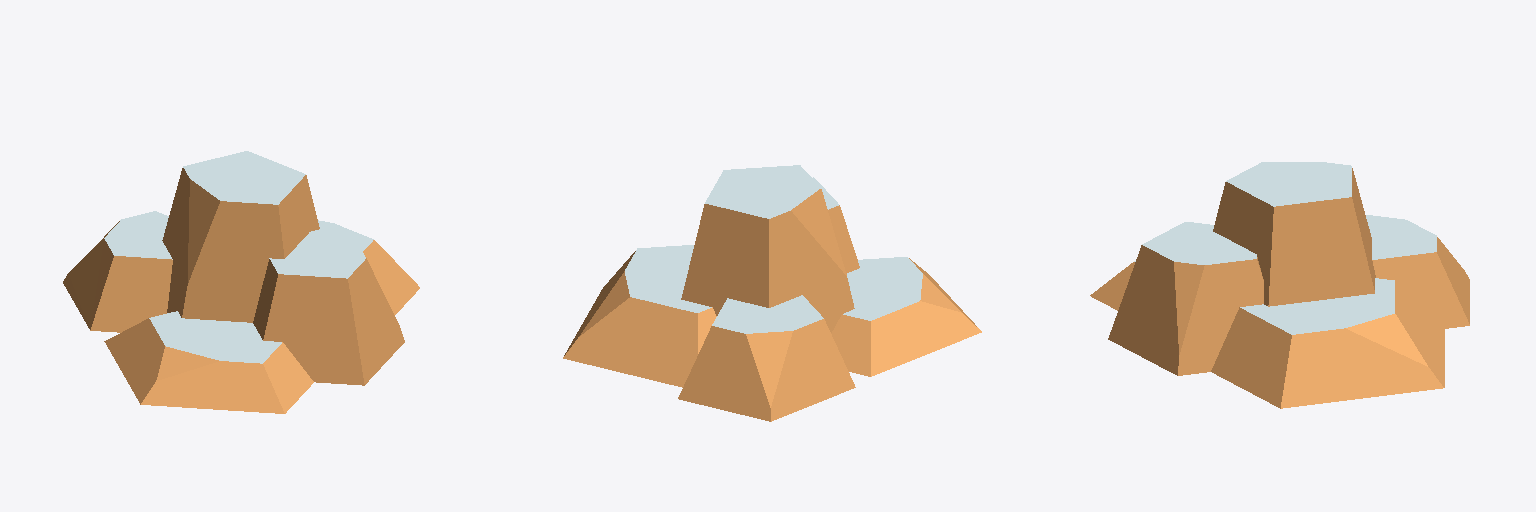
Rendered from snow_tile_rock.obj.
The picture shows the model from 3 angles: view 1: azimuth 30°, elevation 25°; view 2: azimuth 150°, elevation 25°; view 3: azimuth 270°, elevation 25°; orthographic projection.
Visible parts, largest first — view 1: rocks; view 2: rocks; view 3: rocks.
Part boxes in pixels (x1,y1,x2,y2): rocks: (63,151,419,413); rocks: (563,165,981,421); rocks: (1090,162,1469,408).
Bounding box in the file's own units: 1 × 0.4186 × 1.